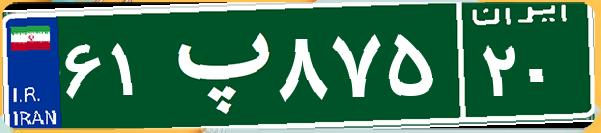0: (525, 38, 570, 115)
1: (110, 28, 158, 105)
2: (475, 38, 525, 113)
5: (385, 28, 445, 110)
6: (57, 26, 110, 107)
7: (330, 28, 385, 110)
8: (273, 28, 330, 110)
پ: (158, 15, 273, 115)
